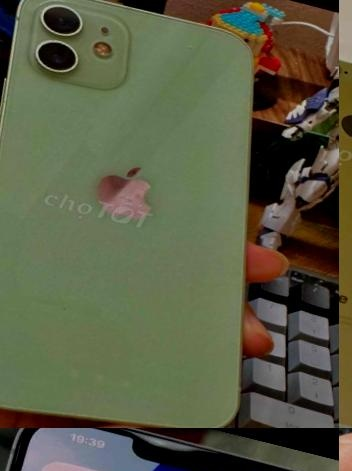scratch: (339, 428, 352, 471)
